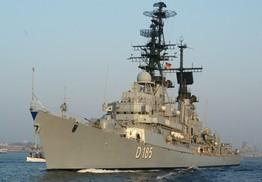warship: (26, 3, 241, 171)
